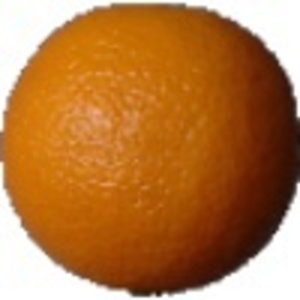laranja: (5, 3, 298, 295)
